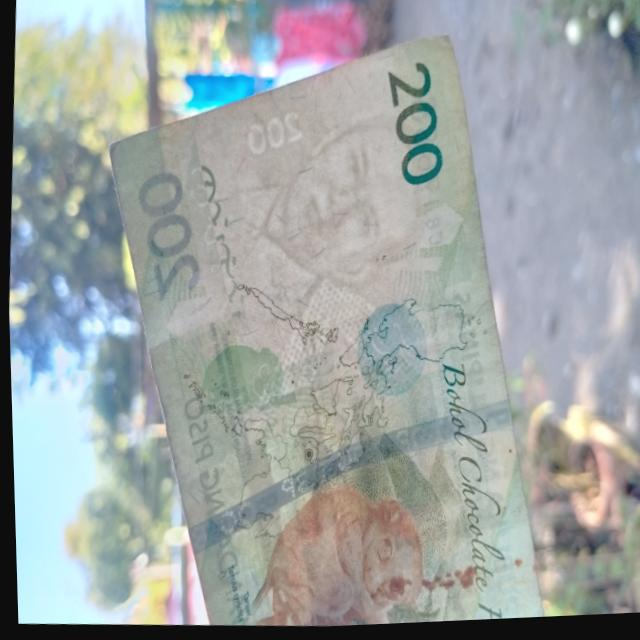security_thread: (176, 387, 514, 580)
see_through_mark: (181, 144, 243, 362)
value_watermark: (234, 102, 315, 162)
watermark: (186, 90, 426, 366)
